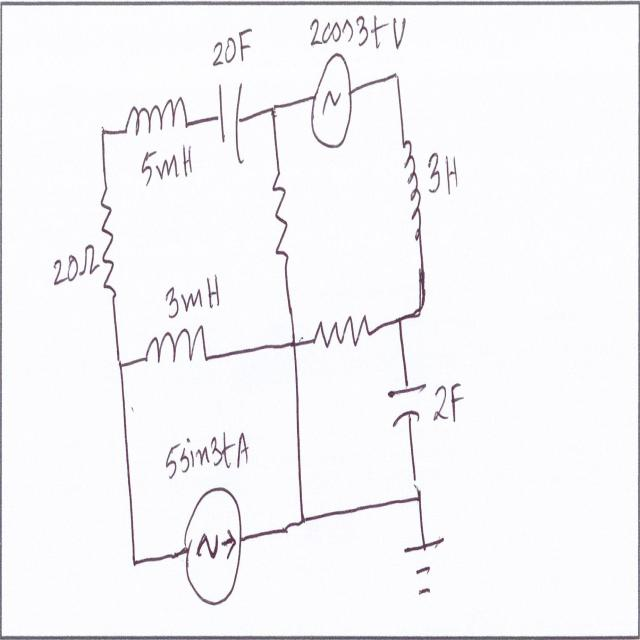capacitor: (384, 374, 432, 444), (214, 82, 247, 180)
current_source: (182, 483, 244, 614), (309, 47, 355, 155)
ground: (400, 533, 447, 607)
inductor: (396, 130, 430, 243), (142, 328, 210, 383), (123, 97, 193, 148)
resistor: (93, 176, 127, 312), (309, 296, 373, 368), (269, 156, 298, 281)
